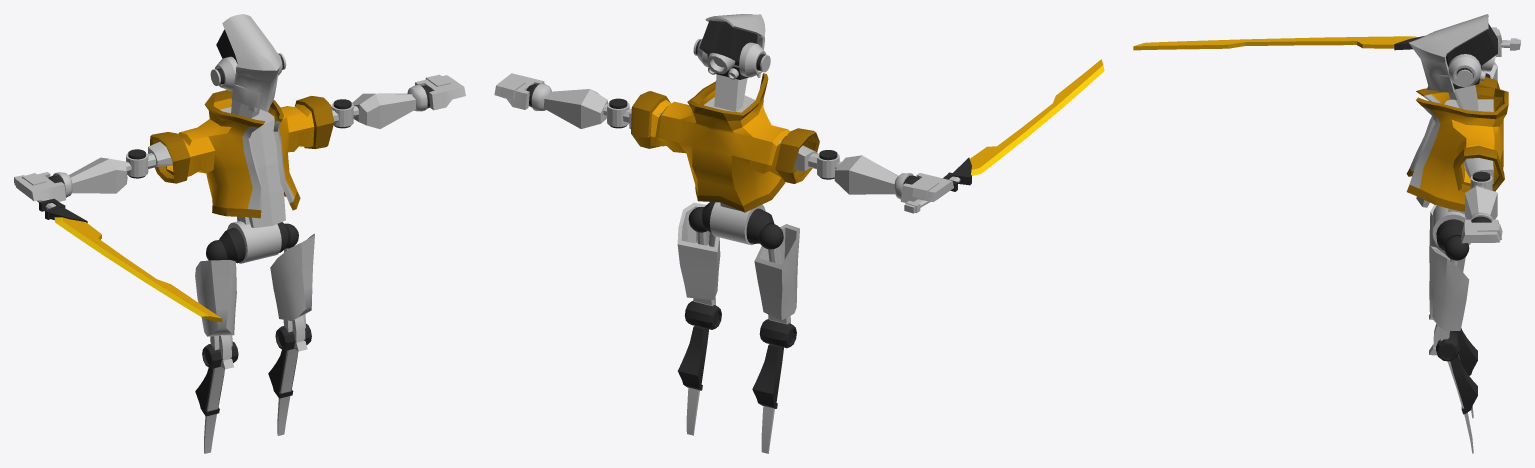
File: Robot_character.fbx
The picture shows the model from 3 angles, left to right: view 1: azimuth 30°, elevation 25°; view 2: azimuth 150°, elevation 25°; view 3: azimuth 270°, elevation 25°; orthographic projection. The views are drawn at different scales.
Visible parts, largest first — view 1: Cube.009, Sword; view 2: Cube.009, Sword; view 3: Cube.009, Sword.
Part boxes in pixels (x1,y1,x2,y2): Cube.009: [16, 14, 465, 453]; Sword: [14, 175, 222, 322]; Cube.009: [494, 14, 953, 453]; Sword: [904, 59, 1104, 213]; Cube.009: [1406, 14, 1508, 453]; Sword: [1133, 36, 1520, 50].
Size of the model in its own units: 151 by 140 by 118.
